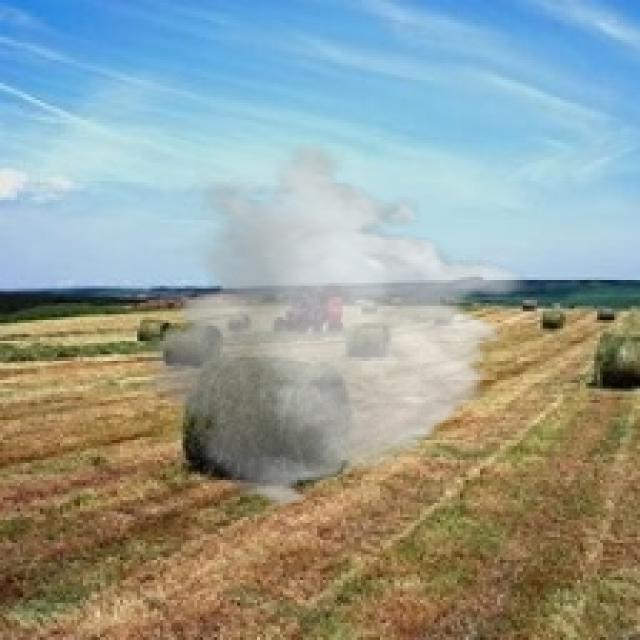Smoke: (132, 143, 532, 512)
